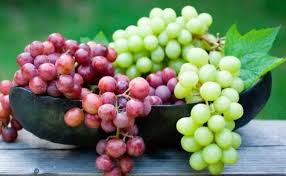Green grapes: (179, 50, 245, 176)
Red Grapes: (15, 35, 118, 98), (93, 74, 156, 176)
